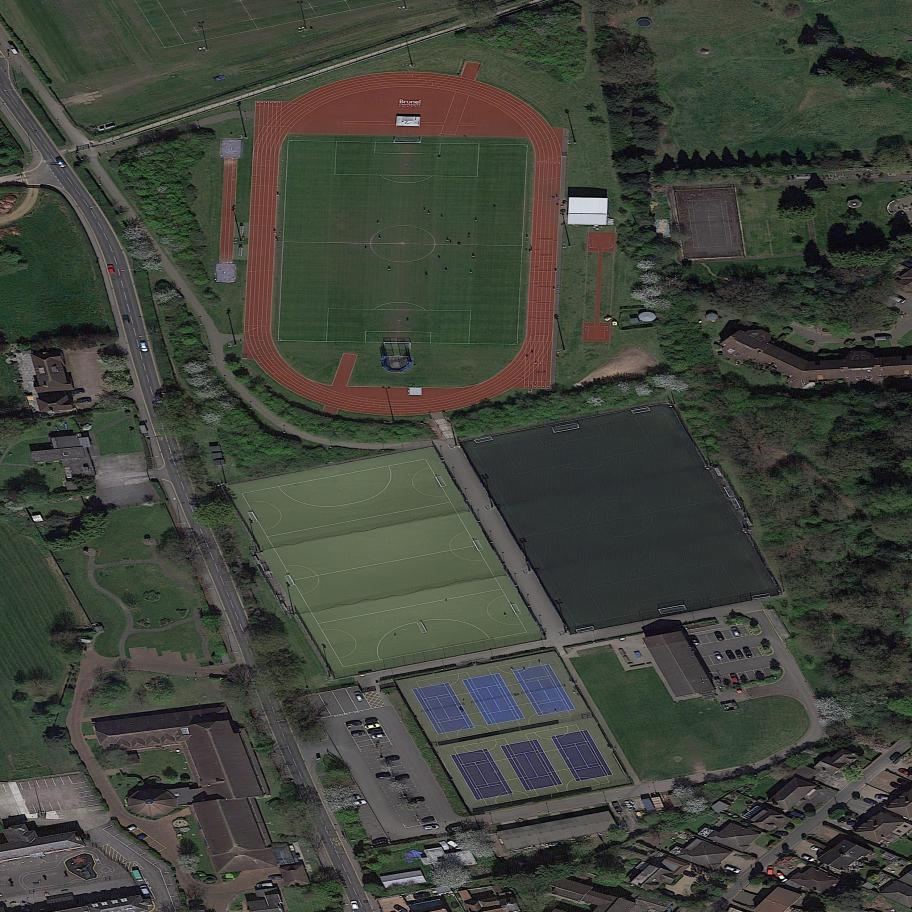large-vehicle: (131, 867, 145, 885)
small-vehicle: (54, 155, 68, 171), (887, 750, 903, 764), (446, 839, 463, 852), (886, 294, 906, 305), (611, 800, 624, 816), (789, 810, 808, 820), (347, 799, 368, 808), (724, 648, 737, 662), (713, 628, 725, 643), (862, 796, 878, 807), (689, 634, 701, 648), (730, 625, 742, 638), (413, 892, 432, 900), (681, 870, 697, 879), (888, 782, 904, 791), (446, 825, 464, 833), (713, 650, 724, 663), (139, 883, 150, 896), (124, 824, 138, 834), (364, 722, 381, 730), (256, 882, 273, 890), (371, 838, 388, 846), (394, 774, 411, 782), (367, 727, 384, 735), (811, 845, 826, 854), (776, 871, 787, 883), (742, 646, 753, 658), (354, 690, 364, 703), (725, 866, 741, 874), (344, 795, 362, 802), (350, 899, 360, 911), (734, 648, 744, 660), (423, 824, 440, 831), (407, 798, 424, 805), (375, 772, 392, 779), (139, 340, 148, 353), (898, 768, 912, 776), (345, 721, 361, 728), (107, 263, 116, 275), (136, 832, 148, 841), (835, 817, 853, 823), (351, 730, 366, 737), (386, 756, 401, 763), (802, 854, 815, 862), (730, 672, 739, 683), (421, 817, 435, 824), (365, 717, 379, 724), (371, 733, 386, 739), (846, 821, 861, 827), (774, 831, 789, 837), (875, 336, 892, 341), (71, 389, 85, 395), (875, 795, 889, 800), (77, 398, 91, 403), (767, 866, 774, 875), (123, 314, 129, 324), (269, 876, 282, 879)
